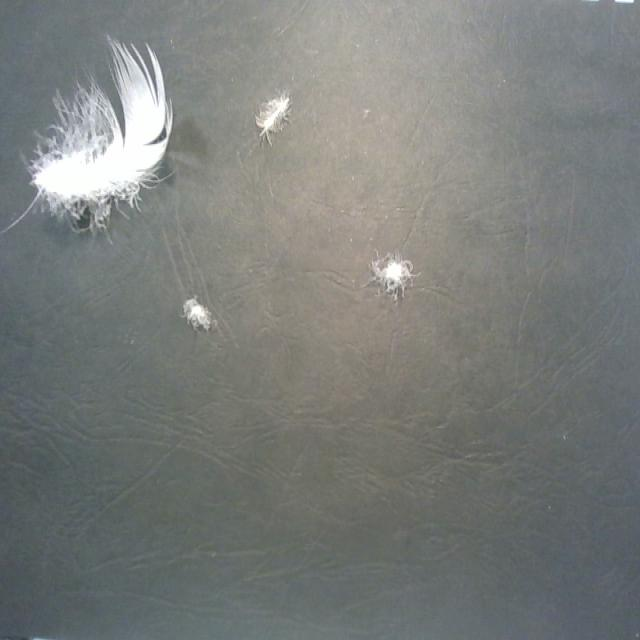feather: (25, 36, 175, 229), (366, 251, 417, 296), (183, 290, 211, 330)
